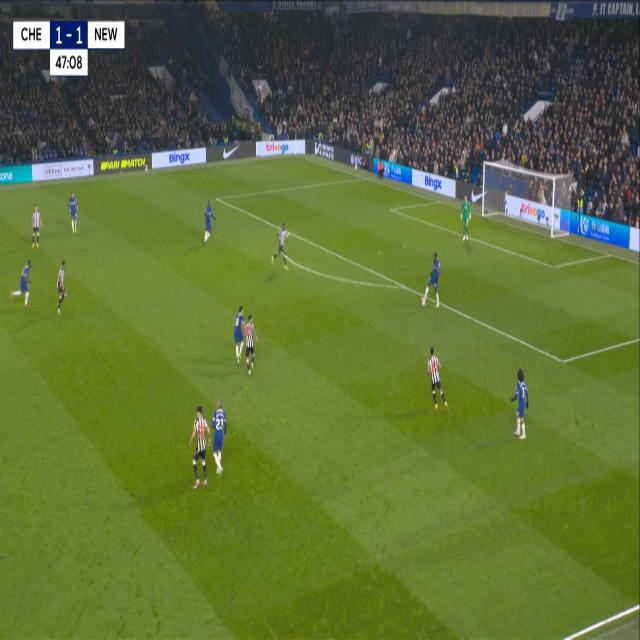Ball: (418, 293, 428, 313)
Chelsea: (509, 363, 532, 443), (420, 247, 444, 312), (8, 257, 34, 308), (231, 300, 247, 368), (200, 194, 218, 247), (66, 185, 80, 240)
Chelsea keeper: (459, 192, 471, 247)
New castle: (188, 400, 212, 489), (424, 342, 451, 420), (210, 396, 230, 482), (268, 220, 292, 278), (245, 311, 260, 378), (54, 256, 69, 316), (29, 197, 43, 256)
